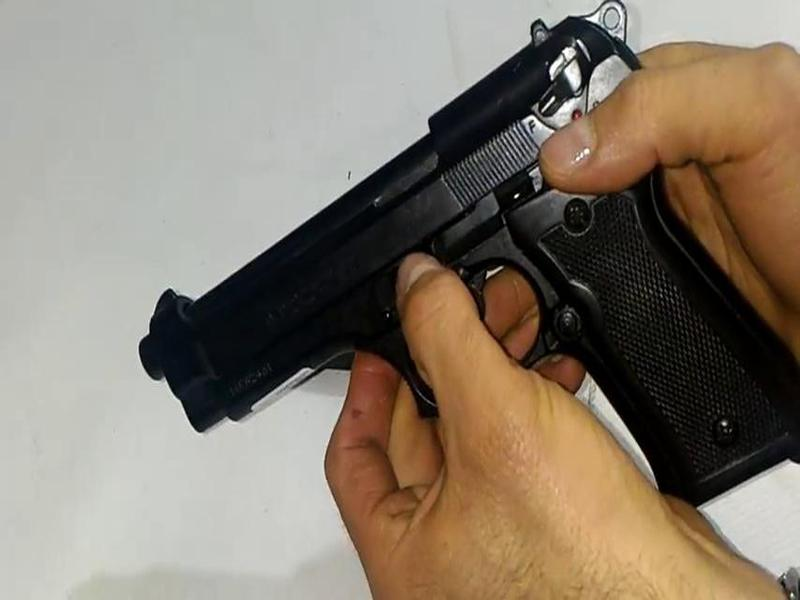Pistola: (94, 19, 774, 501)
